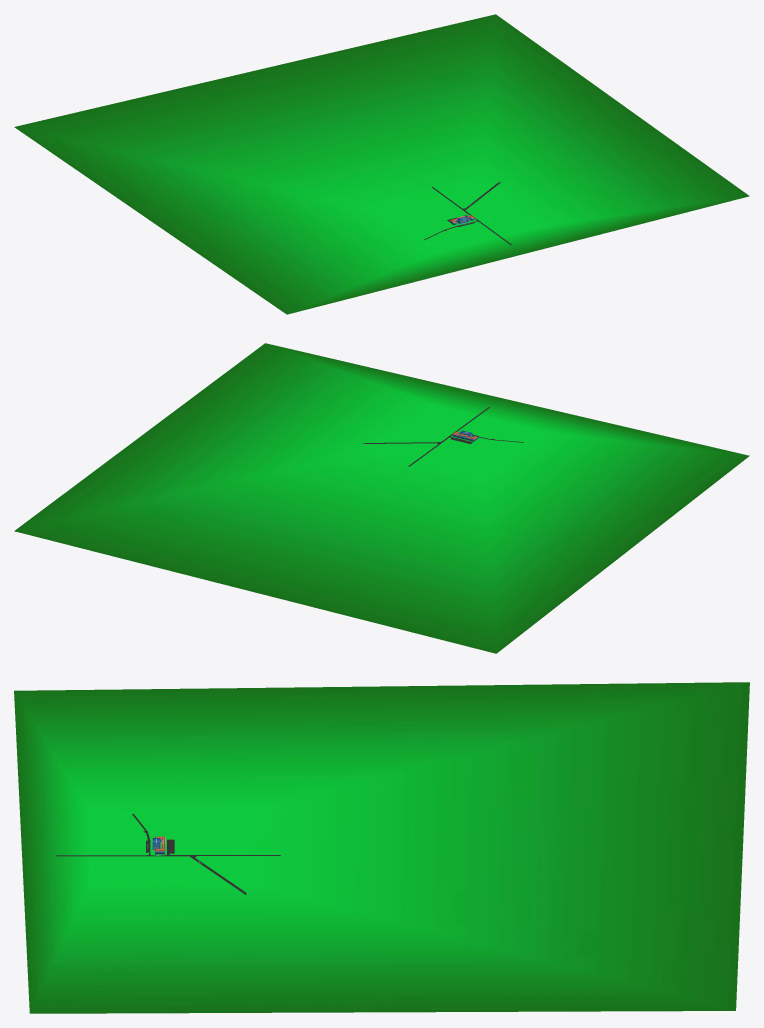
The model's file is building10.gltf.
The picture shows the model from 3 angles, top to bottom: view 1: azimuth 30°, elevation 25°; view 2: azimuth 150°, elevation 25°; view 3: azimuth 270°, elevation 25°; orthographic projection. The views are drawn at different scales.
Parts seen in each view (by area): view 1: building_002; view 2: building_002; view 3: building_002.
Part boxes in pixels (x1=…): building_002: x1=14, y1=14, x2=749, y2=314; building_002: x1=14, y1=343, x2=749, y2=653; building_002: x1=14, y1=682, x2=749, y2=1013.
Size of the model in its own units: 798 by 6.69 by 748.
Materials: 4 (1 with a texture image).
